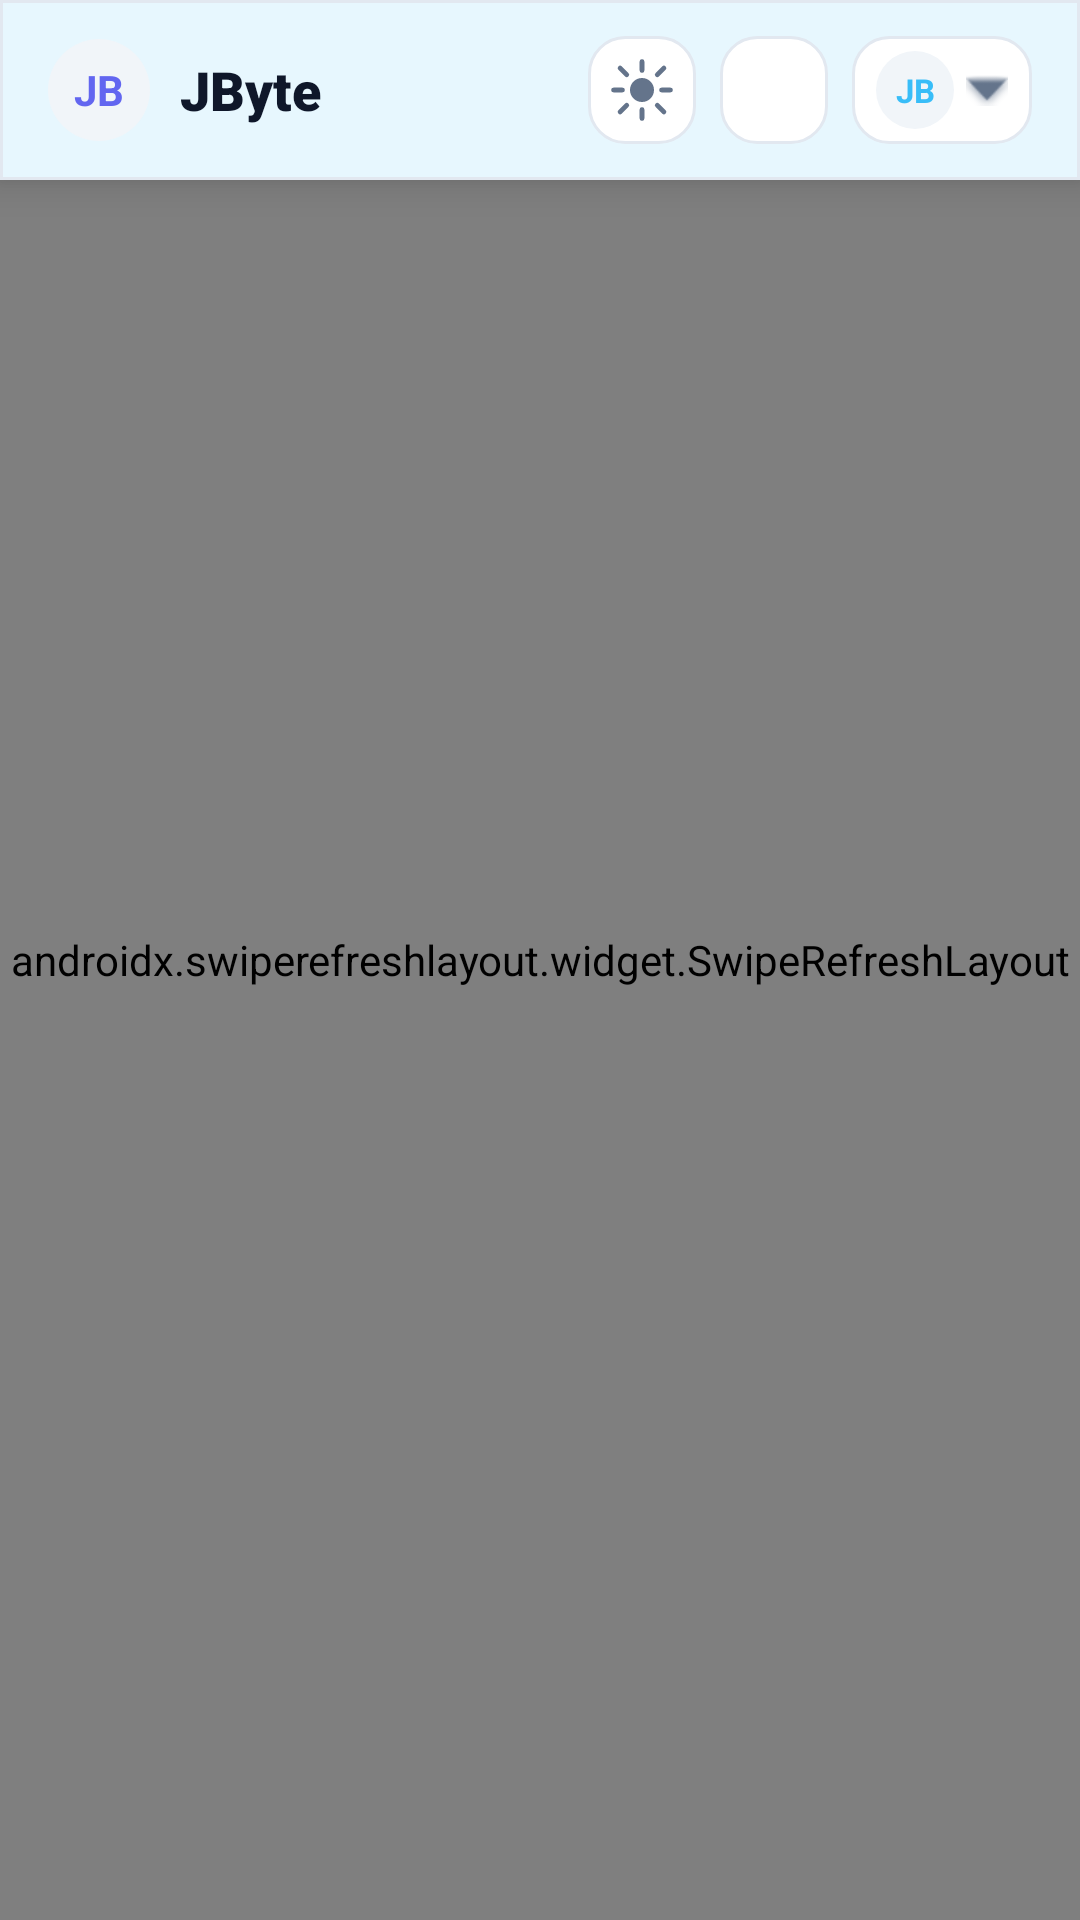

Named icons in this screenshot (1080w x 1920h) and their centers, (x=x, y=y):
arrow down float: (x=987, y=90)
Theme: (x=642, y=90)
